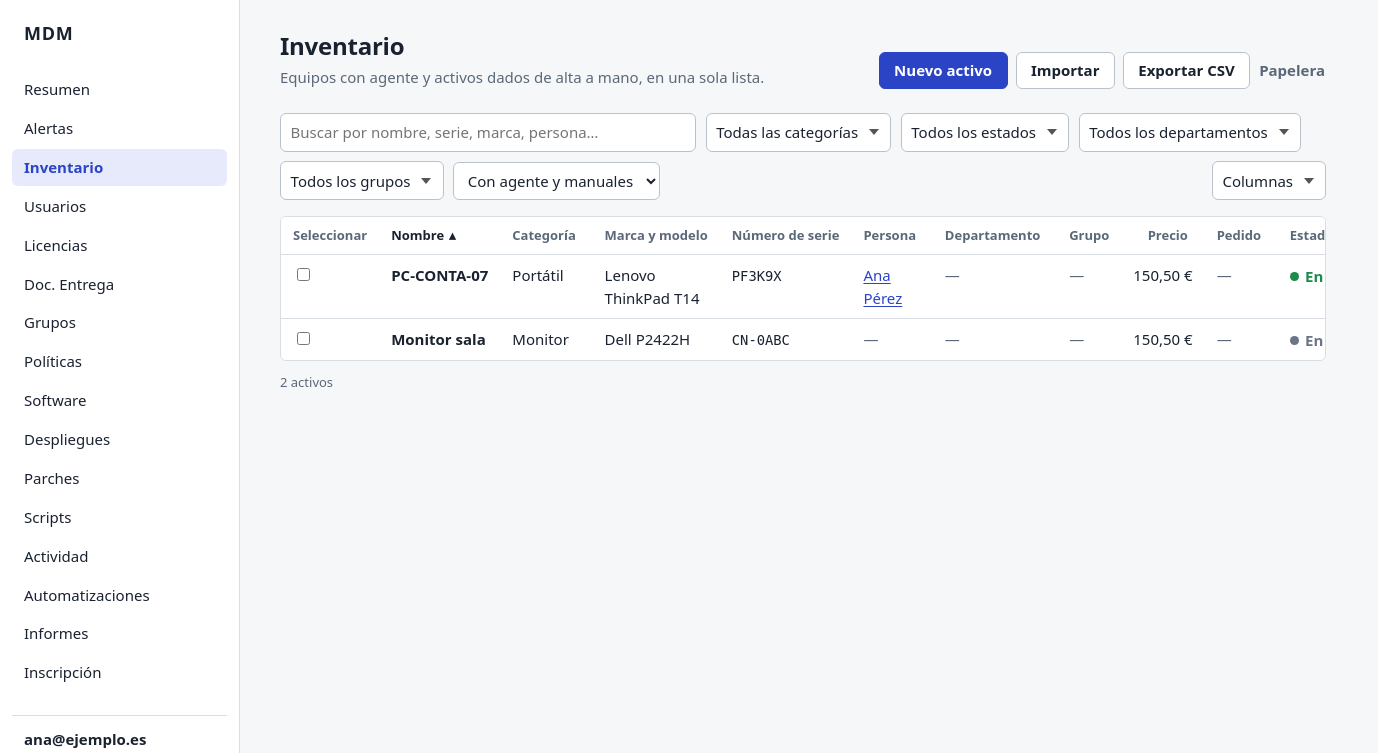
Test: Inventario › las órdenes solo aparecen al seleccionar equipos con agente
Click the checkbox named "Seleccionar Monitor sala" at (304, 338), box [297,332,310,345]
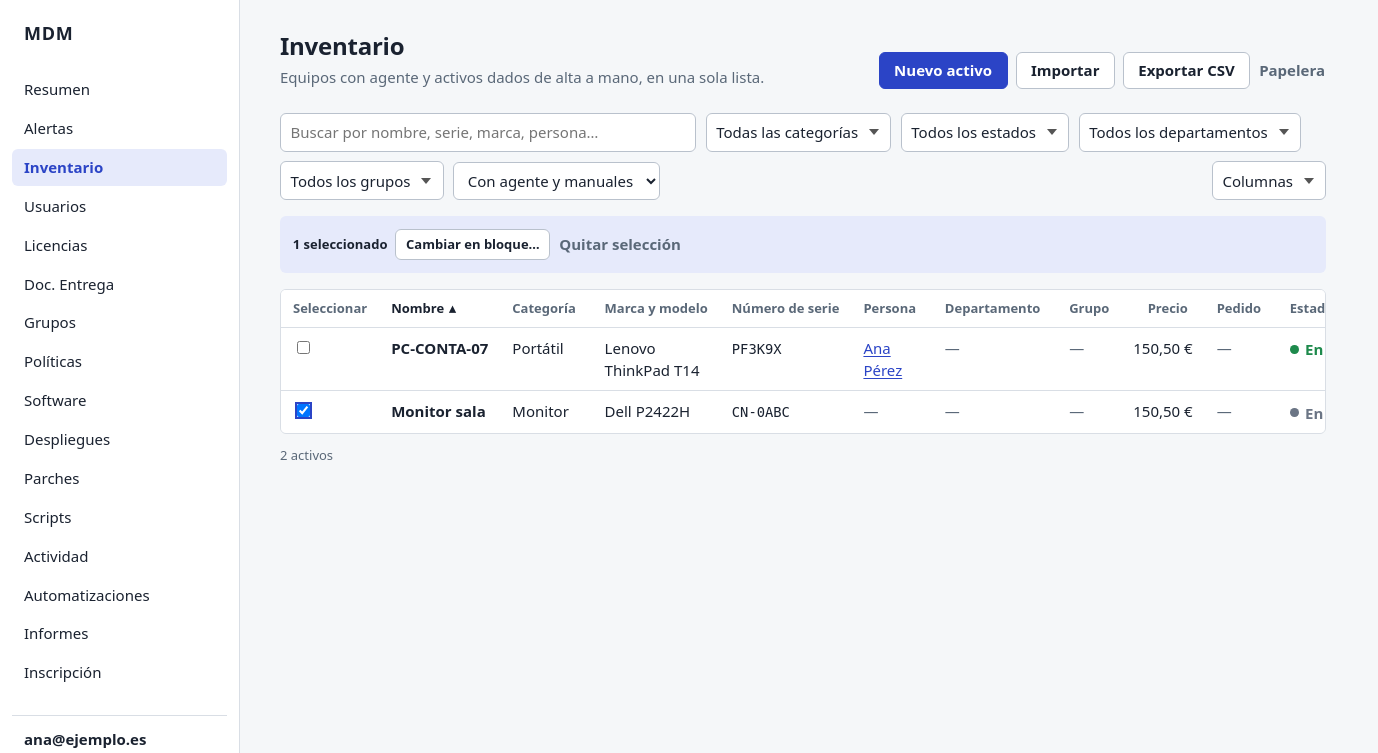
Expected: the button "Reiniciar" is not shown
Now the button "Cambiar en bloque…" is shown, box [396,229,550,260]
Click the checkbox named "Seleccionar PC-CONTA-07" at (304, 347), box [297,341,310,354]
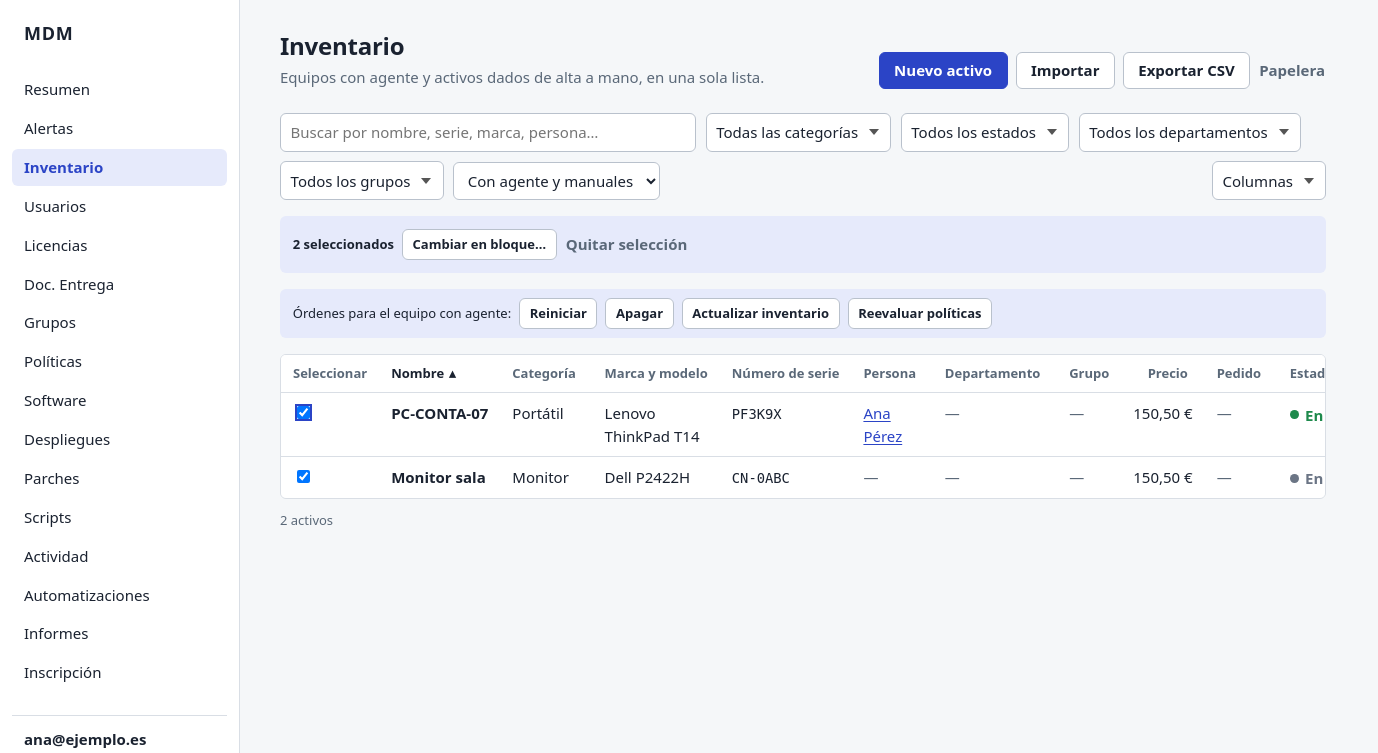
Now the button "Reiniciar" is shown, box [519,298,598,329]
